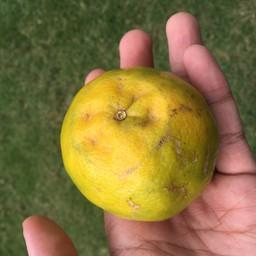Good_orange: (56, 65, 220, 222)
